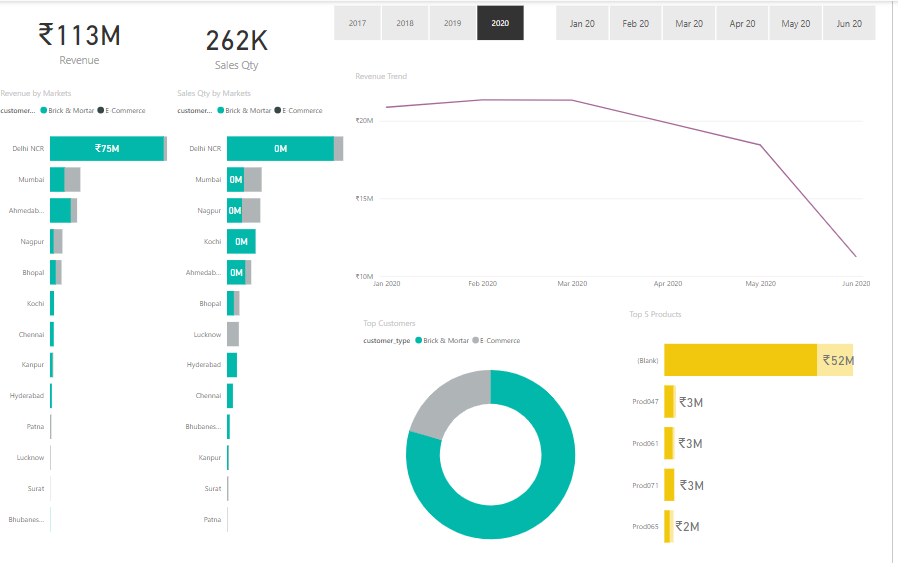

This screenshot's page, from the dashboard's own definition file:
{"tool":"powerbi","page":{"name":"Customer Contribution","canvas":[1350,850],"ordinal":1},"visuals":[{"type":"card","fields":{"Values":["BaseMeasures (2).Revenue"]},"box":[0,0,248.2,115.6],"z":0},{"type":"card","fields":{"Values":["BaseMeasures (2).Sales Qty"]},"box":[248.2,0,227.8,129.2],"z":1000},{"type":"barChart","title":"Revenue by Markets","fields":{"Y":["BaseMeasures (2).Revenue"],"Category":["sales markets.markets_name"],"Series":["sales customers.customer_type"]},"box":[0,129.2,266.9,695.3],"z":2000},{"type":"barChart","title":"Sales Qty by Markets","fields":{"Y":["BaseMeasures (2).Sales Qty"],"Category":["sales markets.markets_name"],"Series":["sales customers.customer_type"]},"box":[266.9,129.2,268.6,695.3],"z":3000},{"type":"slicer","fields":{"Values":["sales date.year"]},"box":[483.2,0,335.5,66.5],"z":4000},{"type":"slicer","fields":{"Values":["sales date.cy_date"]},"box":[818.6,0,531.7,66.5],"z":5000},{"type":"donutChart","title":"Top Customers","fields":{"Category":["sales customers.customer_type"],"Y":["BaseMeasures (2).Revenue"]},"box":[547.4,477.7,394.4,372.3],"z":6000},{"type":"barChart","title":"Top 5 Products","fields":{"Y":["BaseMeasures (2).Revenue"],"Category":["sales products.product_code"]},"box":[950.3,464.1,399.5,385.9],"z":7000},{"type":"lineChart","title":"Revenue Trend","fields":{"Y":["BaseMeasures (2).Revenue"],"Category":["sales date.cy_date"]},"box":[535.5,103.7,787.1,340],"z":8000}]}

Visuals, with their boxes in screenshot pixels (x1, y1, x2, y2), scaled from the page's 1350x850 canvas onto the 898x563 screenshot:
card - BaseMeasures (2).Revenue: (x1=0, y1=0, x2=165, y2=77)
card - BaseMeasures (2).Sales Qty: (x1=165, y1=0, x2=317, y2=86)
"Revenue by Markets" barChart: (x1=0, y1=86, x2=178, y2=546)
"Sales Qty by Markets" barChart: (x1=178, y1=86, x2=356, y2=546)
slicer - sales date.year: (x1=321, y1=0, x2=545, y2=44)
slicer - sales date.cy_date: (x1=545, y1=0, x2=897, y2=44)
"Top Customers" donutChart: (x1=364, y1=316, x2=626, y2=562)
"Top 5 Products" barChart: (x1=632, y1=307, x2=897, y2=562)
"Revenue Trend" lineChart: (x1=356, y1=69, x2=880, y2=294)
